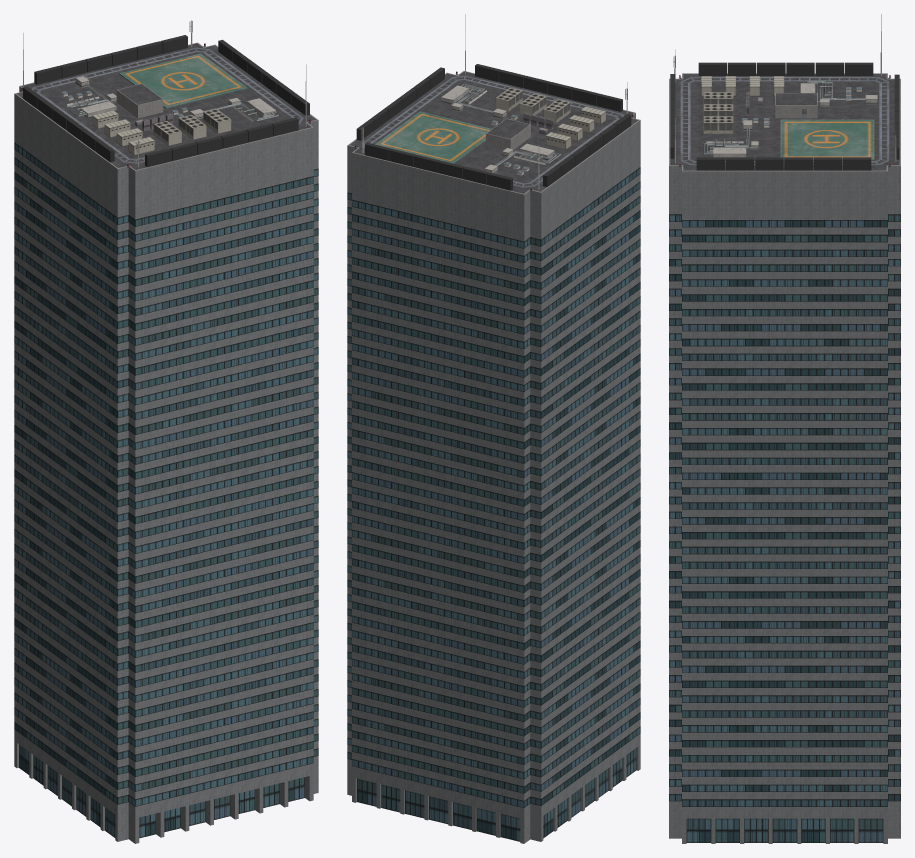
Rendered from building_Aa.FBX.
3 views of the same model, side by side, from view 1: azimuth 30°, elevation 25°; view 2: azimuth 150°, elevation 25°; view 3: azimuth 270°, elevation 25° (orthographic). The views are drawn at different scales.
Parts seen in each view (by area): view 1: building_Aa; view 2: building_Aa; view 3: building_Aa.
Boxes of the visible parts, box(x1,y1,x2,y2) form: building_Aa: box(14, 20, 318, 843); building_Aa: box(347, 14, 640, 843); building_Aa: box(669, 14, 900, 843).
Size of what is drawn, in the model's own units: 1949 by 1949 by 6813.
